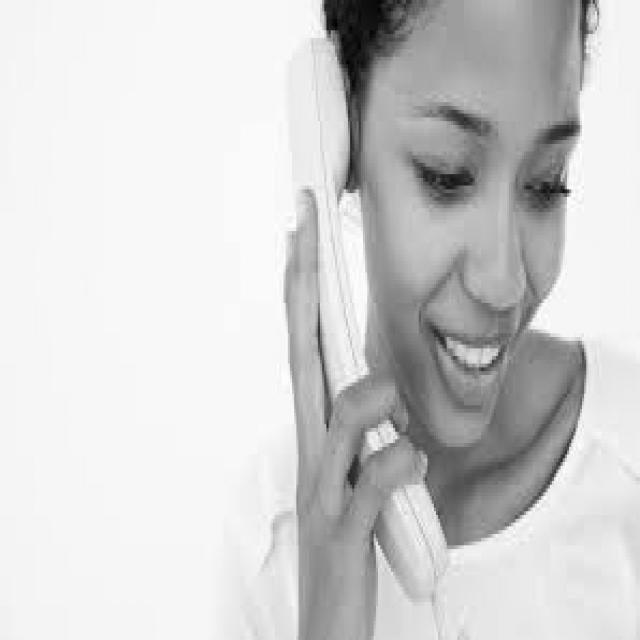phone: (262, 22, 477, 594)
